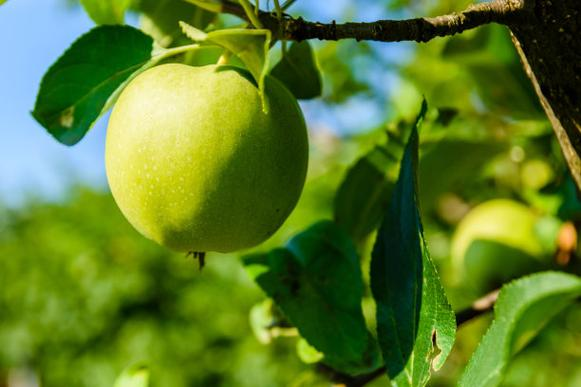unripe: (104, 57, 316, 263)
